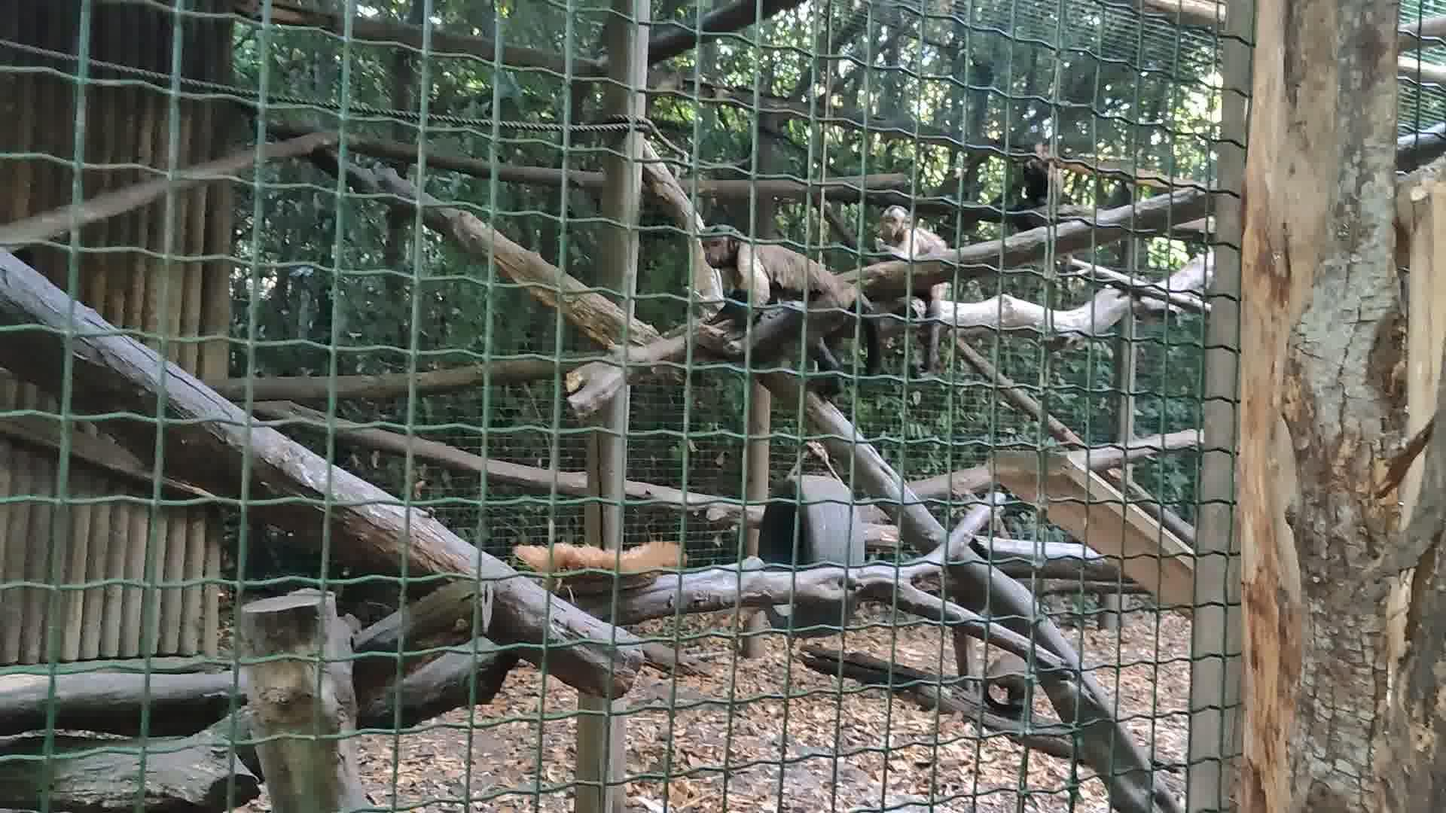boar: (700, 224, 883, 396), (874, 205, 947, 371)
